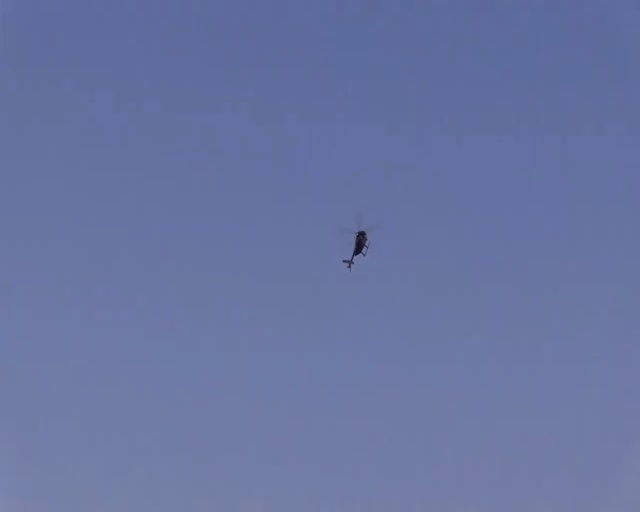HELICOPTER: (339, 227, 371, 270)
